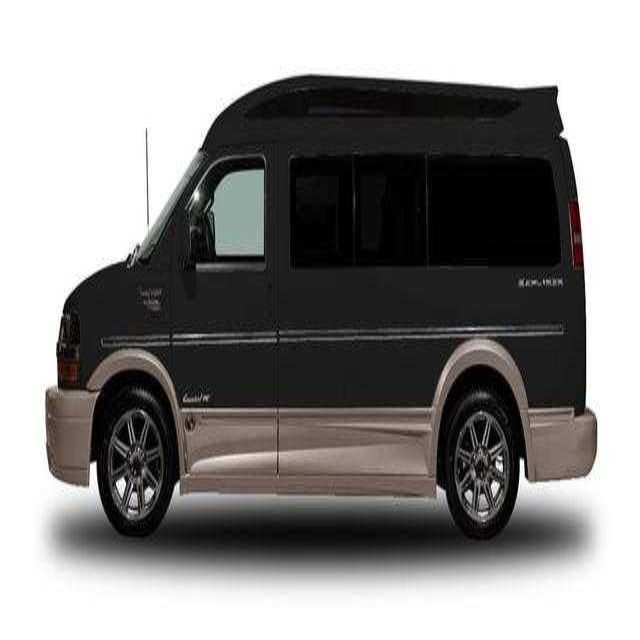Van: (46, 74, 595, 540)
